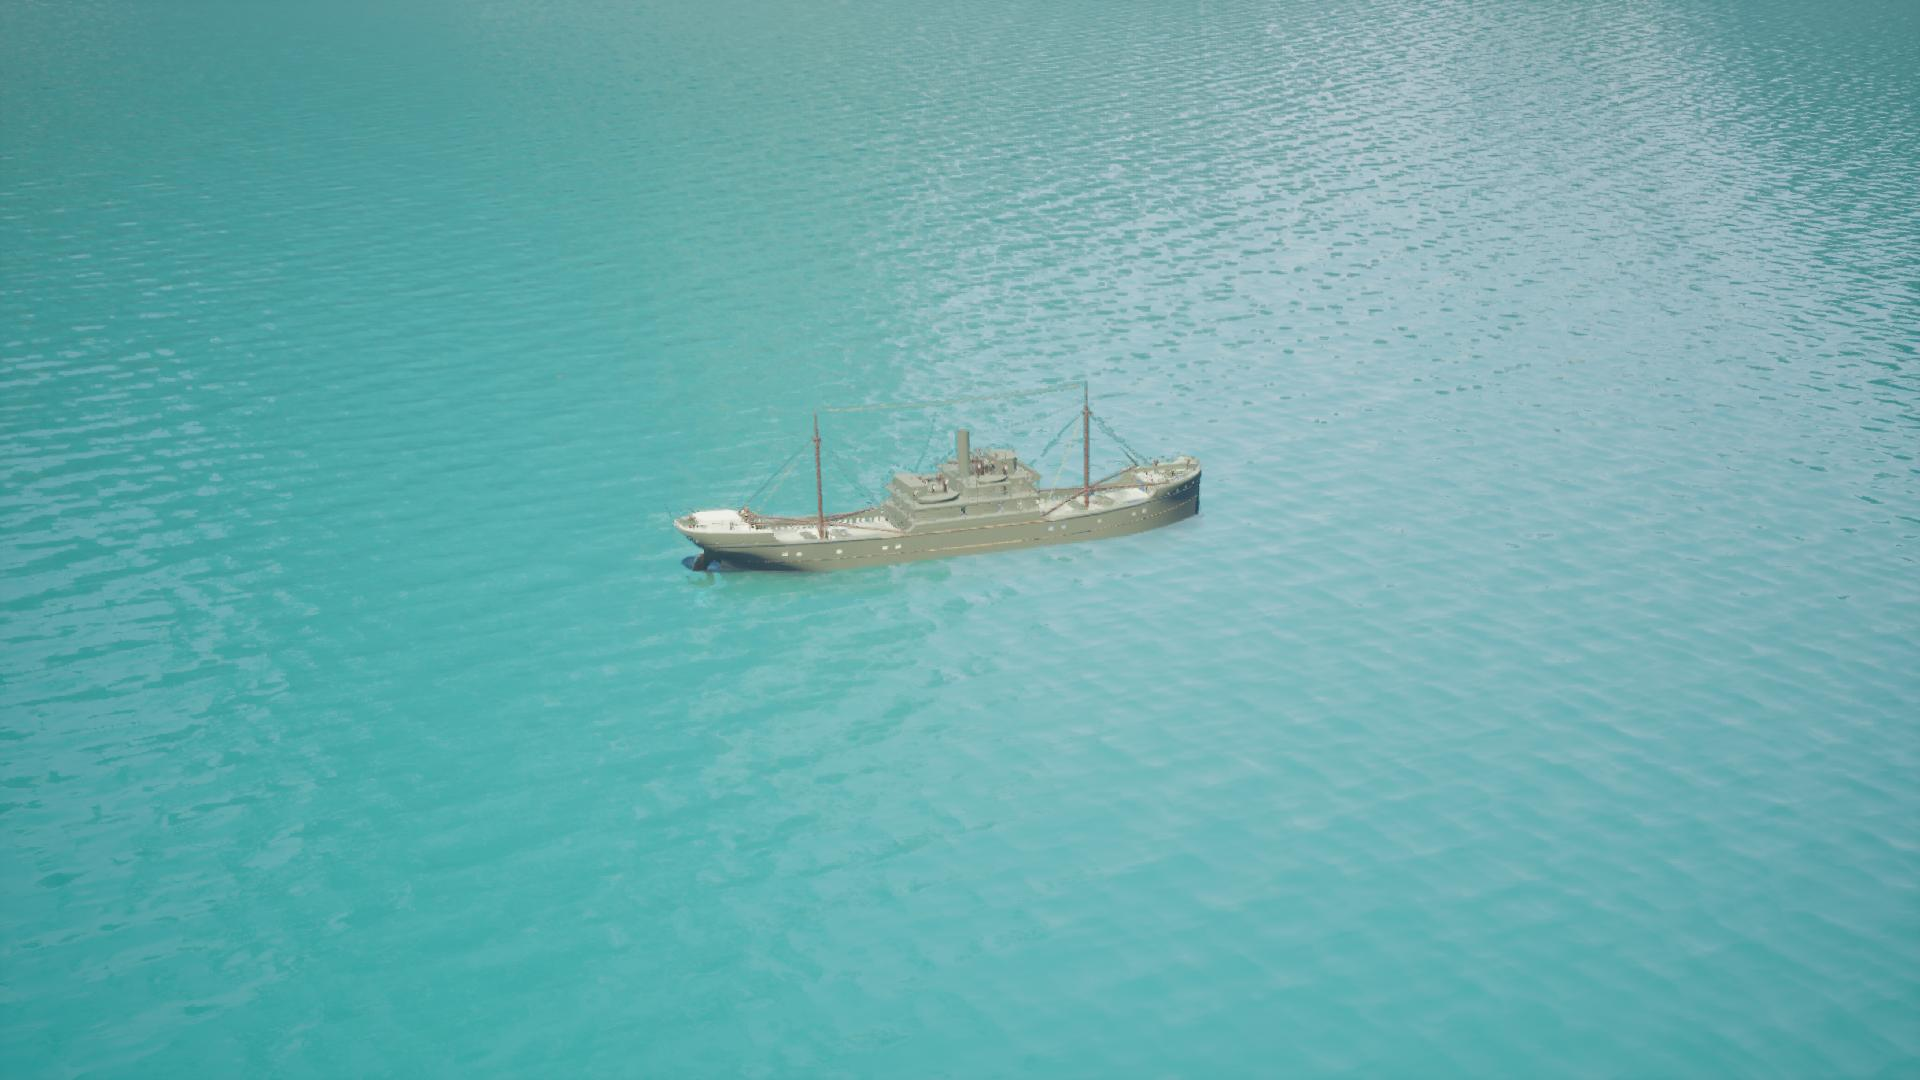Fishing Boat: (676, 390, 1201, 580)
